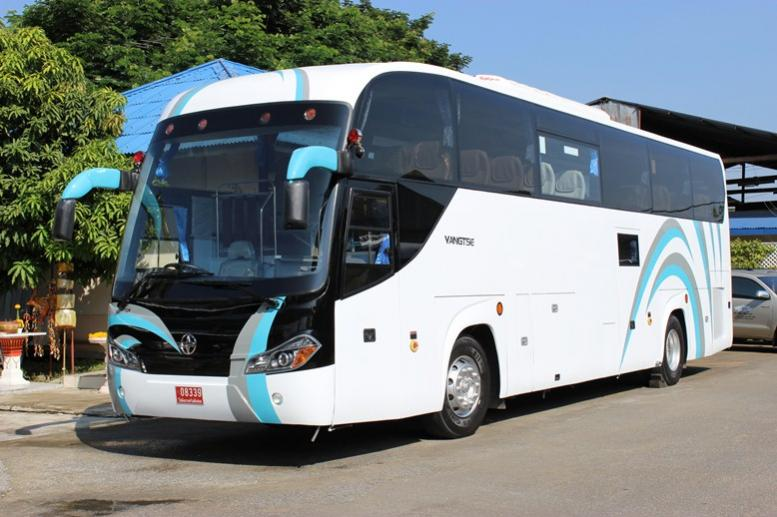bus: (104, 62, 736, 429)
